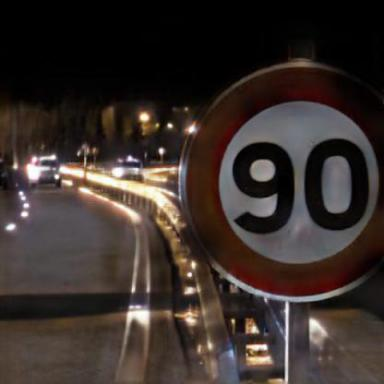Speed_limit_90: (188, 68, 384, 299)
